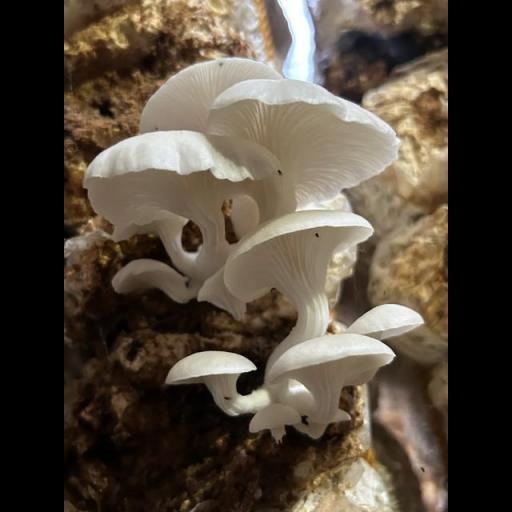White Oyster Mushroom: (86, 59, 418, 436)
